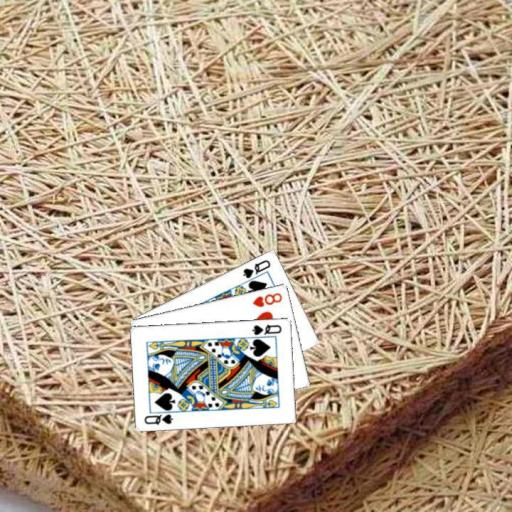8H: (250, 290, 284, 309)
QS: (240, 256, 272, 279), (249, 321, 283, 336), (142, 411, 174, 426)
